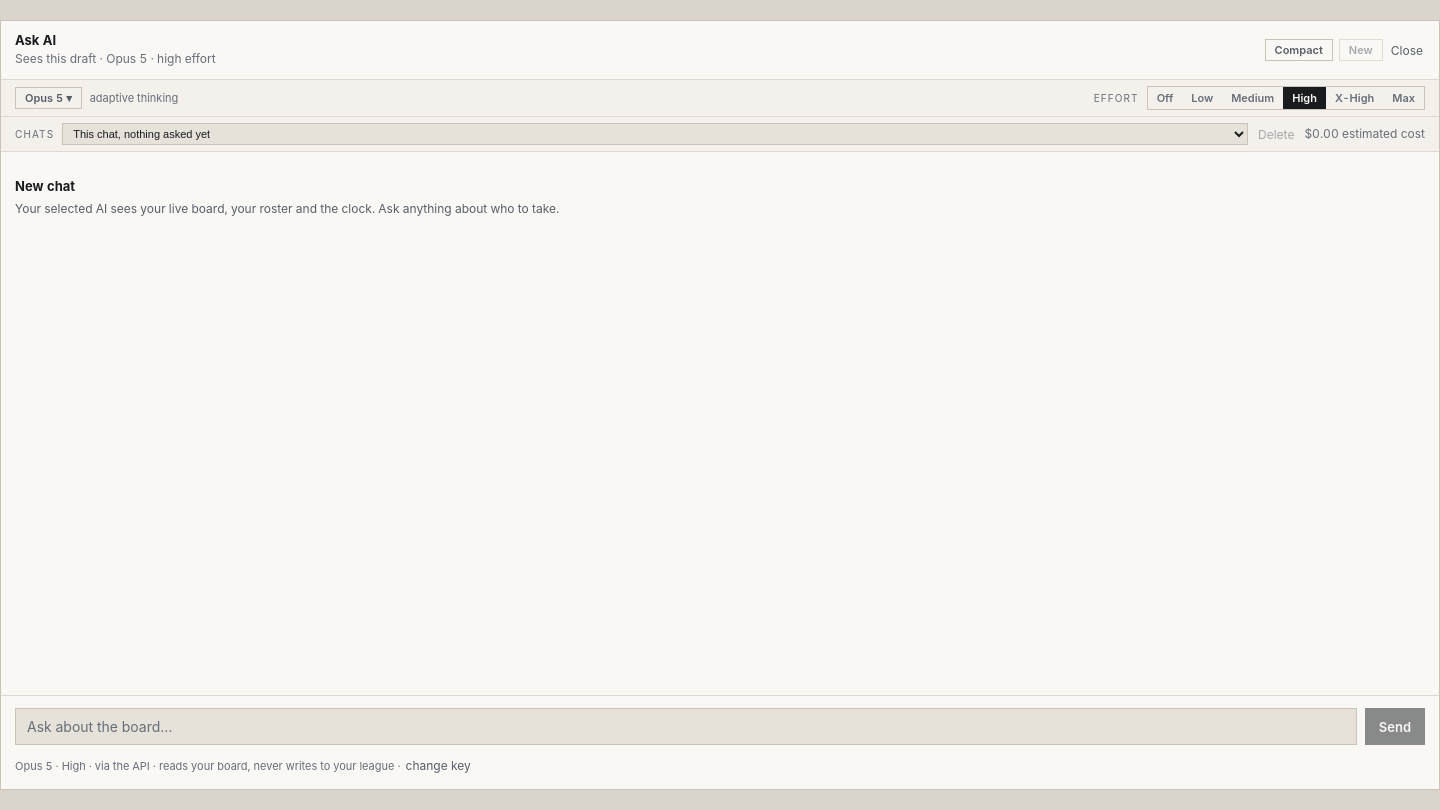
Test: an answer in flight › reads a cancel with no text as a stopped turn, and does not resend it
The width and height of the screenshot is (1440, 810).
Type "Who?" into the field named "Ask AI" at (686, 726), box [15,708,1357,745]
Then press Enter
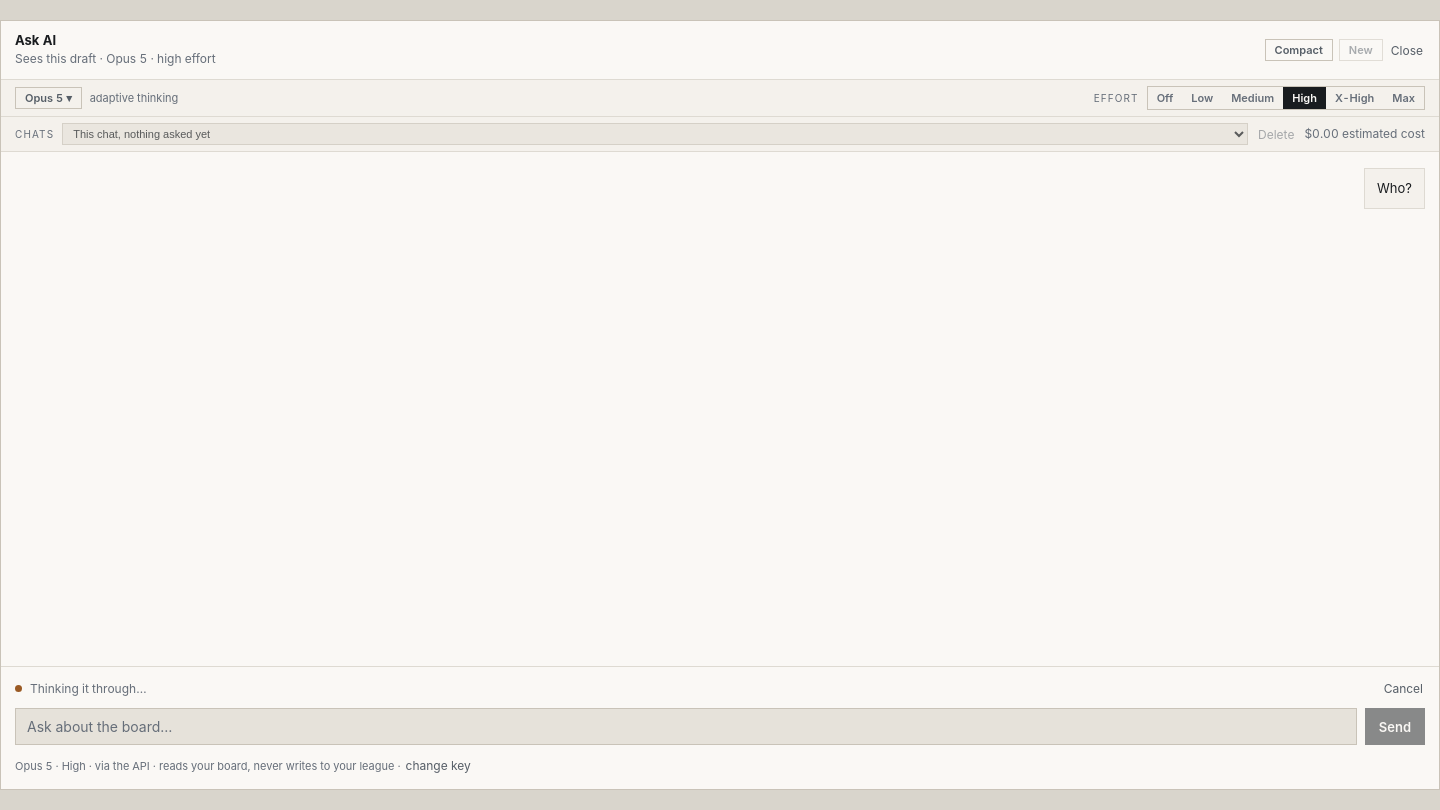
Click the button with aria-label "Cancel the answer" at (1403, 688), box [1382,679,1425,698]
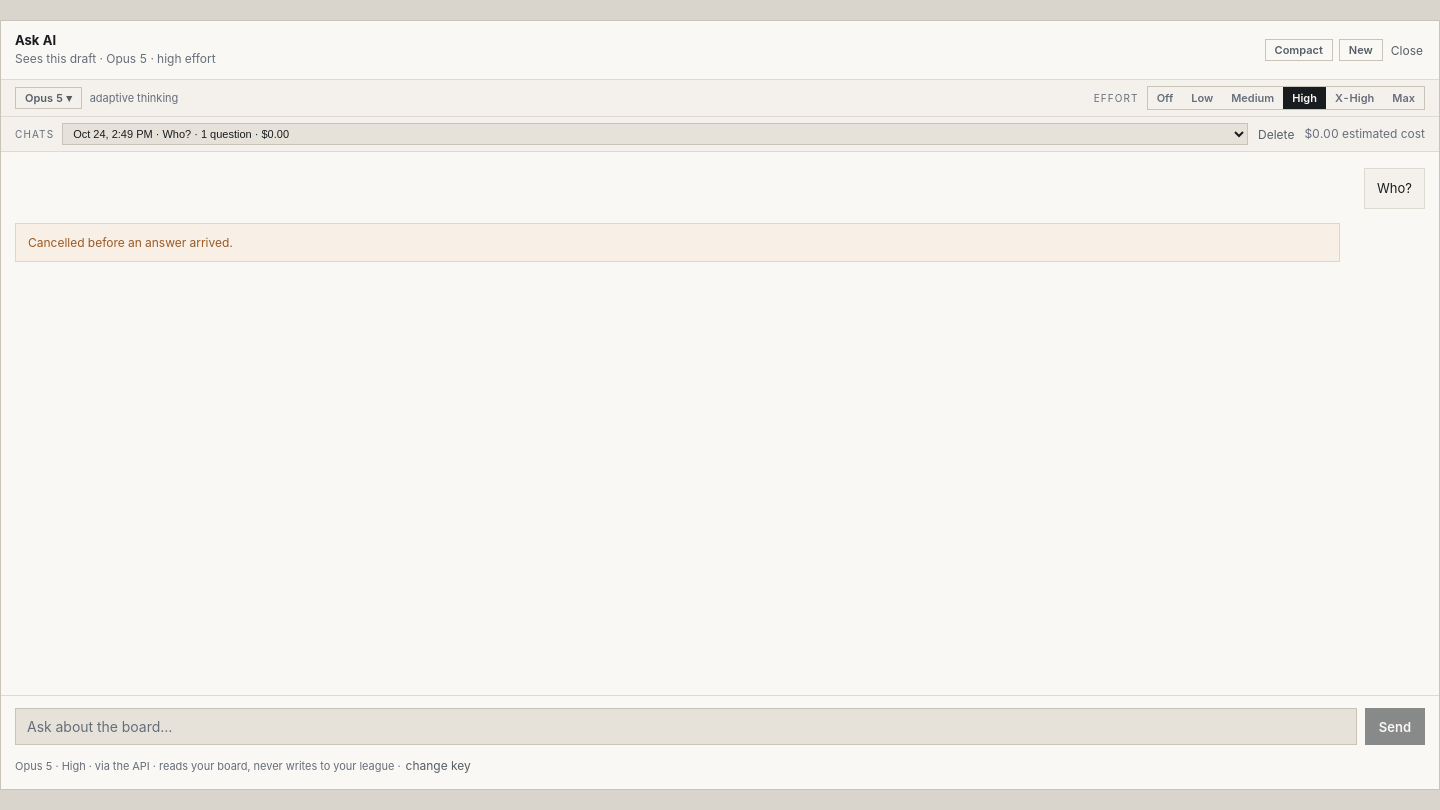
Check: the text "Cancelled before an answer arrived." is shown, box [28,235,233,250]
Type "Again" into the field named "Ask AI" at (686, 726), box [15,708,1357,745]
Then press Enter
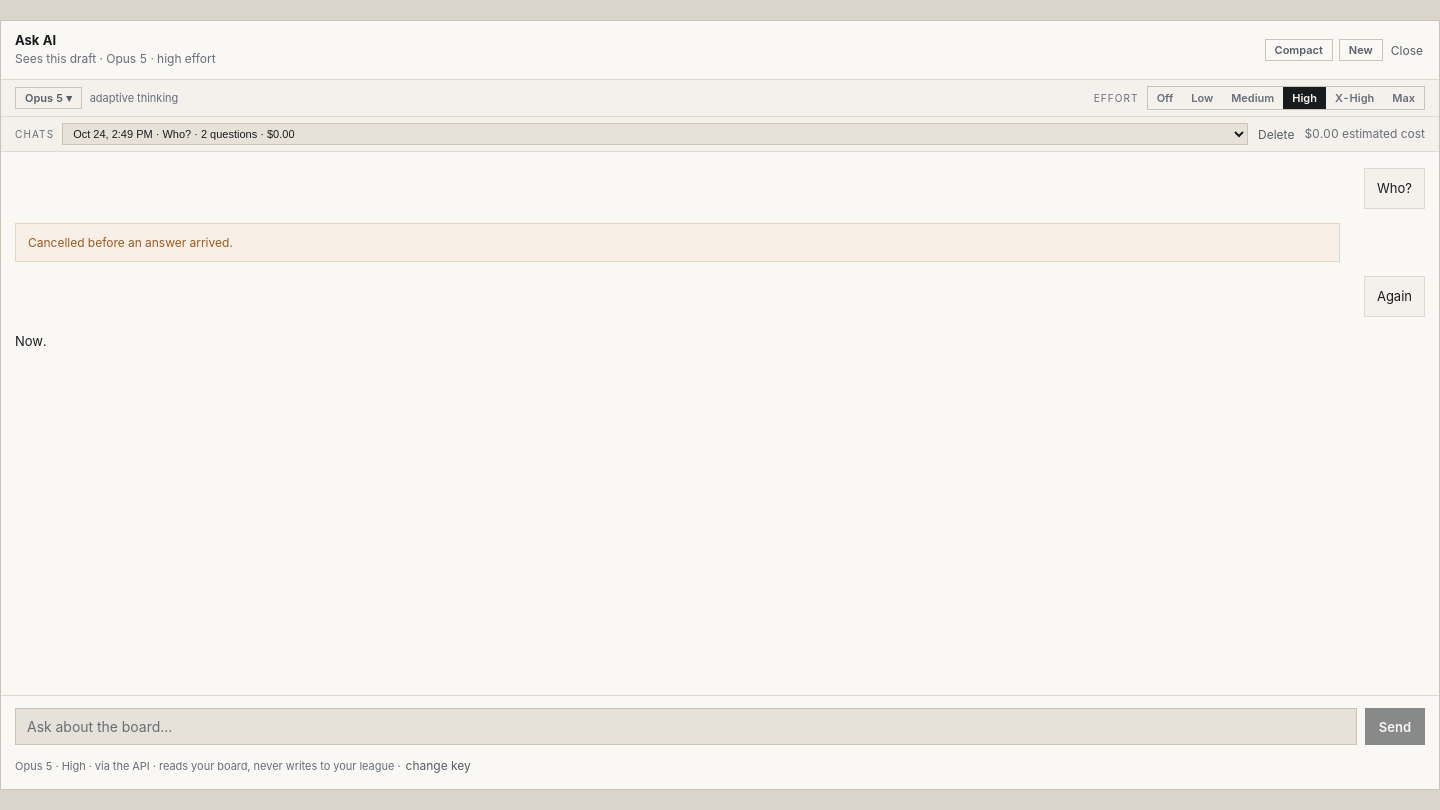
Check: the text "Now." is shown, box [15,333,46,349]
